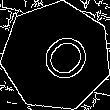O_SW: (23, 23, 90, 90)
